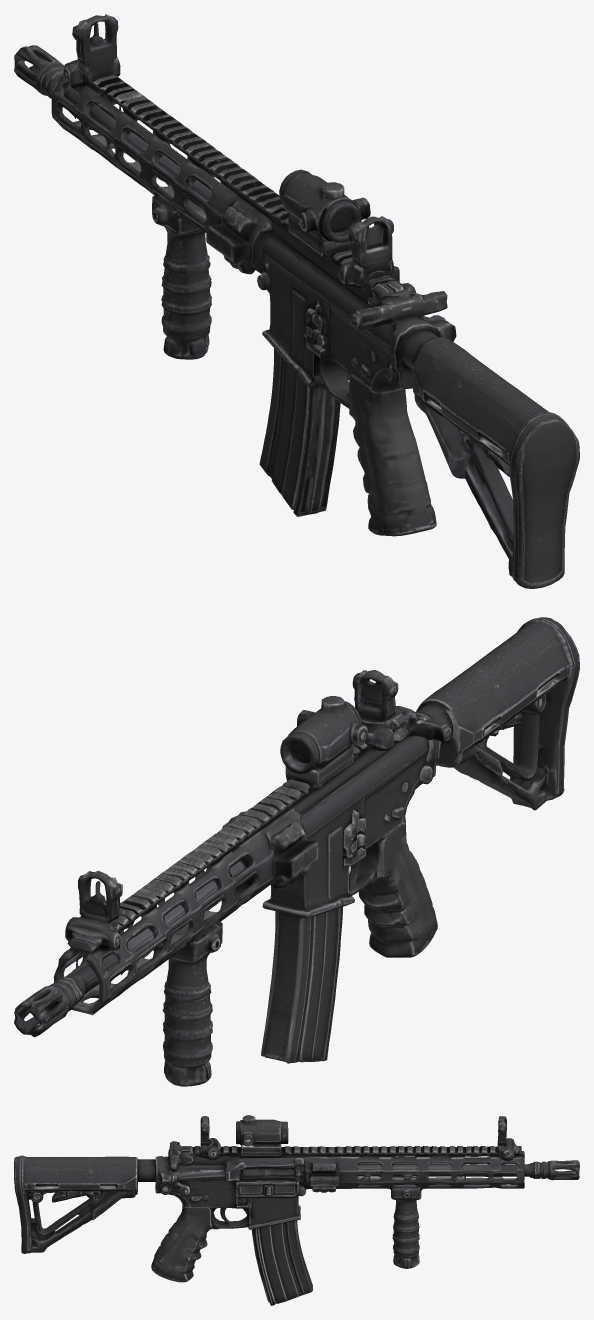
The picture shows the model from 3 angles, top to bottom: view 1: azimuth 30°, elevation 25°; view 2: azimuth 150°, elevation 25°; view 3: azimuth 270°, elevation 25°; orthographic projection. The views are drawn at different scales.
Parts seen in each view (by area): view 1: tripo_node_5a84b2dd-80d0-4491-ac04-8a20224ec46f; view 2: tripo_node_5a84b2dd-80d0-4491-ac04-8a20224ec46f; view 3: tripo_node_5a84b2dd-80d0-4491-ac04-8a20224ec46f.
Part boxes in pixels (x1,y1,x2,y2): tripo_node_5a84b2dd-80d0-4491-ac04-8a20224ec46f: (14, 14, 579, 588); tripo_node_5a84b2dd-80d0-4491-ac04-8a20224ec46f: (14, 617, 579, 1086); tripo_node_5a84b2dd-80d0-4491-ac04-8a20224ec46f: (14, 1115, 579, 1305).
Bounding box in the file's own units: 0.1044 × 0.3623 × 1.
Materials: 1 (1 with a texture image).
